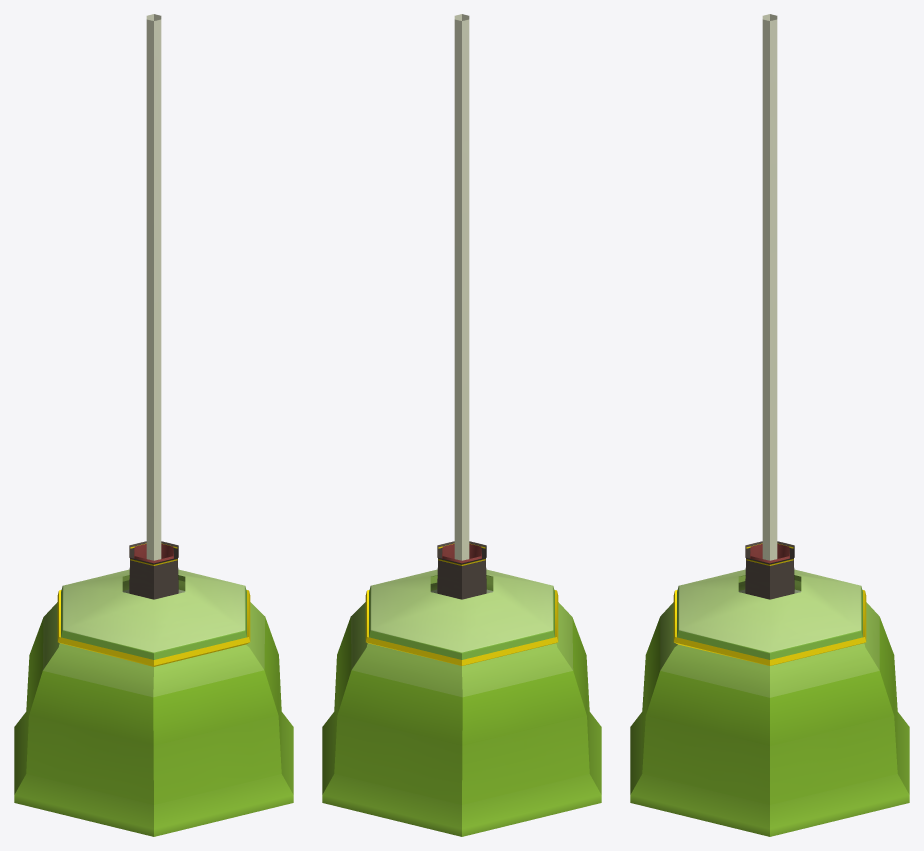
File: SM_Chandelier.fbx
3 views of the same model, side by side, from view 1: azimuth 30°, elevation 25°; view 2: azimuth 150°, elevation 25°; view 3: azimuth 270°, elevation 25° (orthographic).
Parts seen in each view (by area): view 1: SM_Chandelier; view 2: SM_Chandelier; view 3: SM_Chandelier.
Part boxes in pixels (x1,y1,x2,y2): SM_Chandelier: [14, 14, 293, 836]; SM_Chandelier: [322, 14, 601, 836]; SM_Chandelier: [630, 14, 909, 836].
Bounding box in the file's own units: 37.95 × 97.68 × 32.86.
